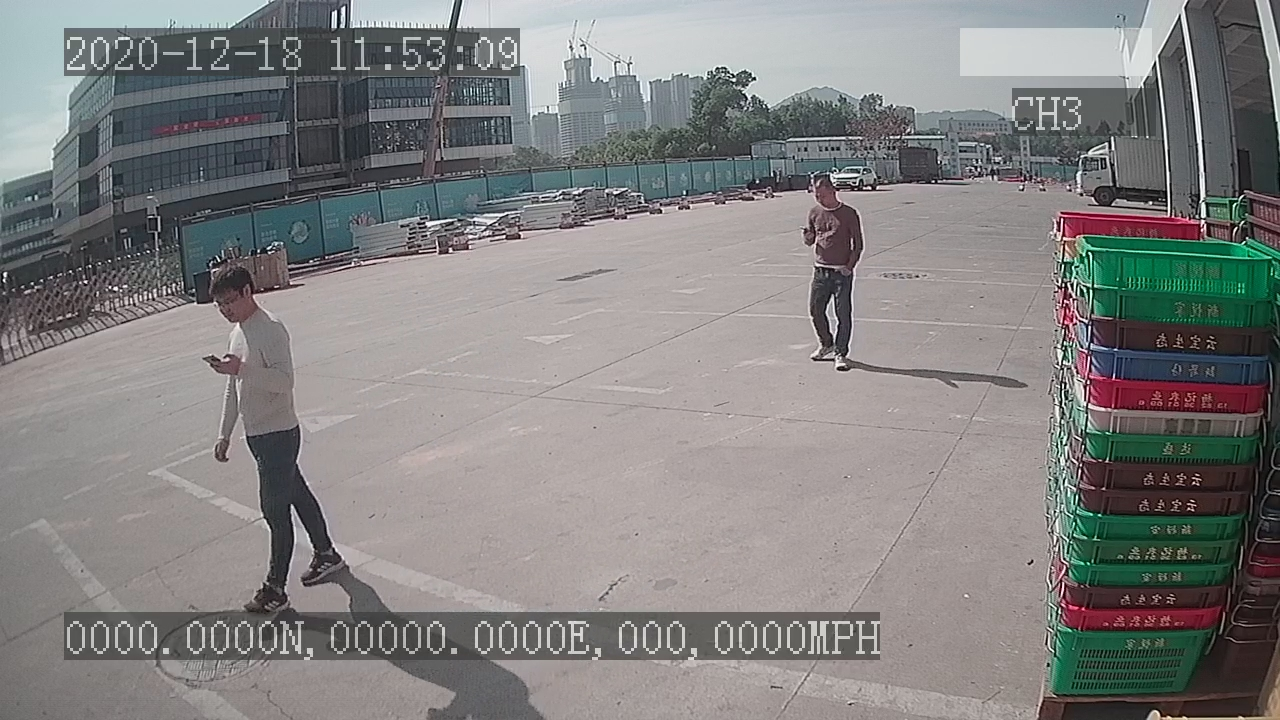person: (788, 170, 867, 378)
